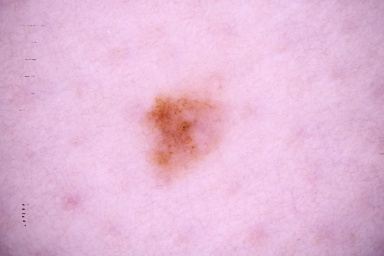nevus: (148, 96, 220, 181)
